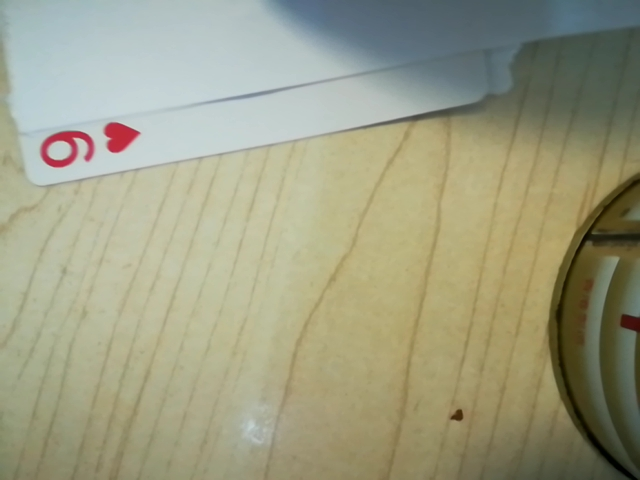hx 9: (26, 116, 140, 180)
